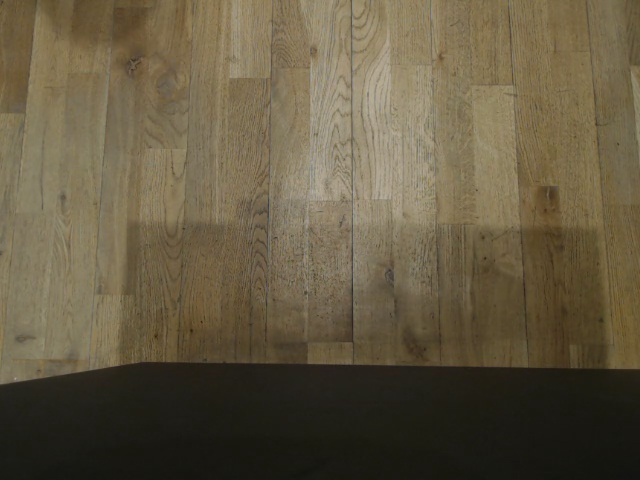beer: (448, 327, 544, 369), (140, 318, 229, 363)
